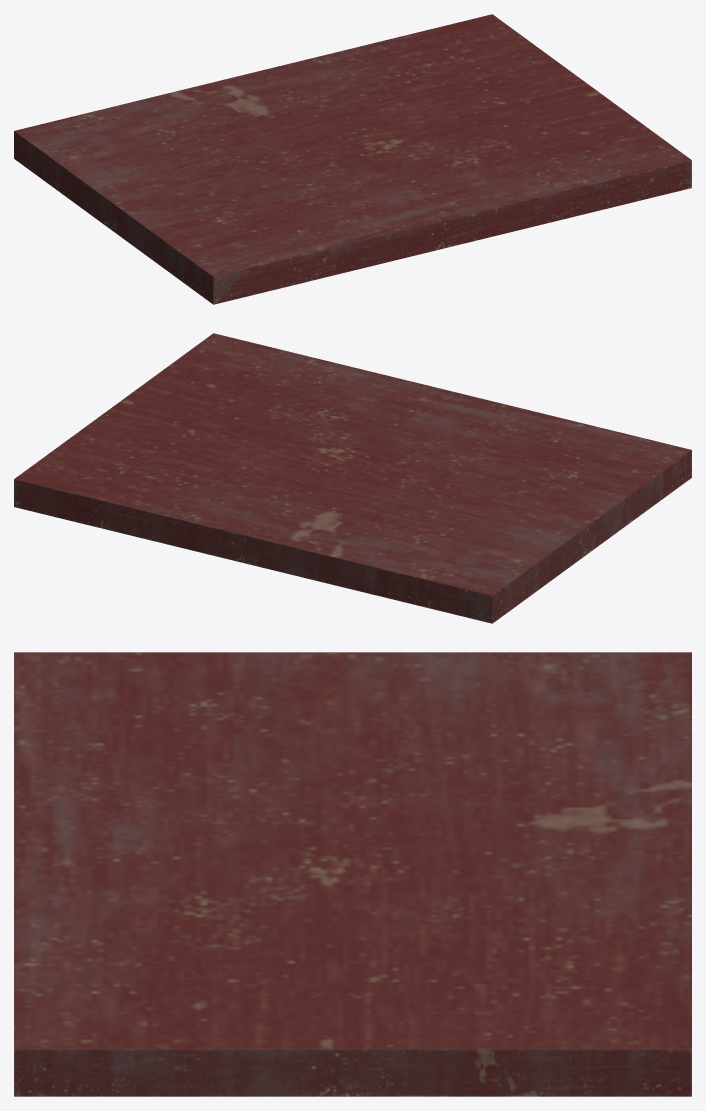
The model's file is SM_Ceiling01e.fbx.
The picture shows the model from 3 angles, top to bottom: view 1: azimuth 30°, elevation 25°; view 2: azimuth 150°, elevation 25°; view 3: azimuth 270°, elevation 25°; orthographic projection. The views are drawn at different scales.
Visible parts, largest first — view 1: SM_Ceiling01e; view 2: SM_Ceiling01e; view 3: SM_Ceiling01e.
Part boxes in pixels (x1,y1,x2,y2): SM_Ceiling01e: [14, 14, 691, 304]; SM_Ceiling01e: [14, 333, 691, 623]; SM_Ceiling01e: [14, 652, 691, 1096].
Size of the model in its own units: 180 by 130 by 10.
1 material, 1 textured.
